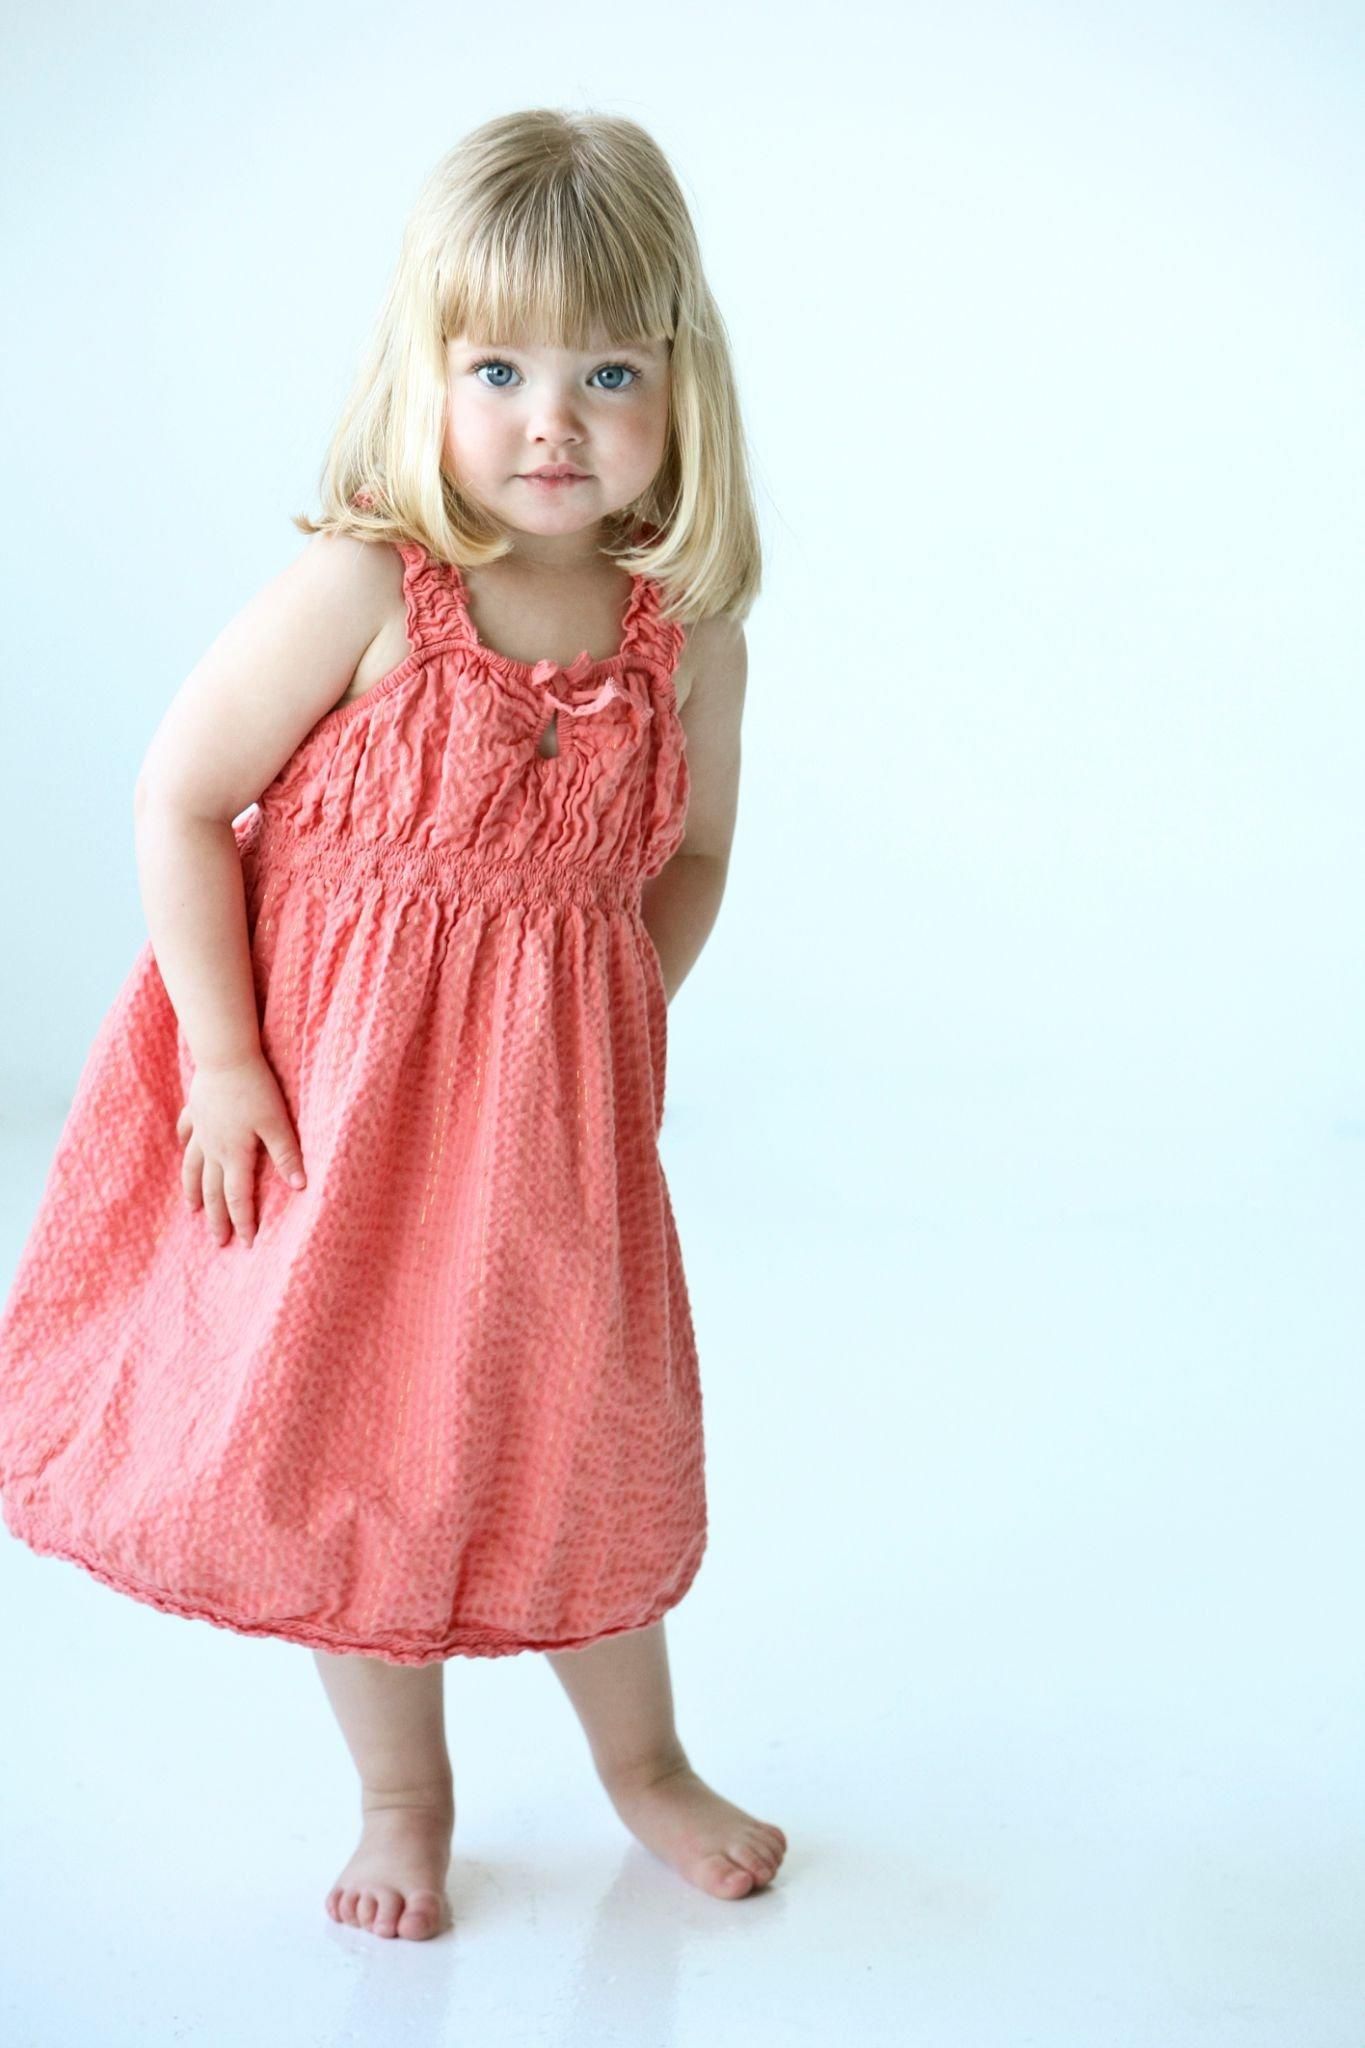Healthy: (402, 227, 730, 592)
